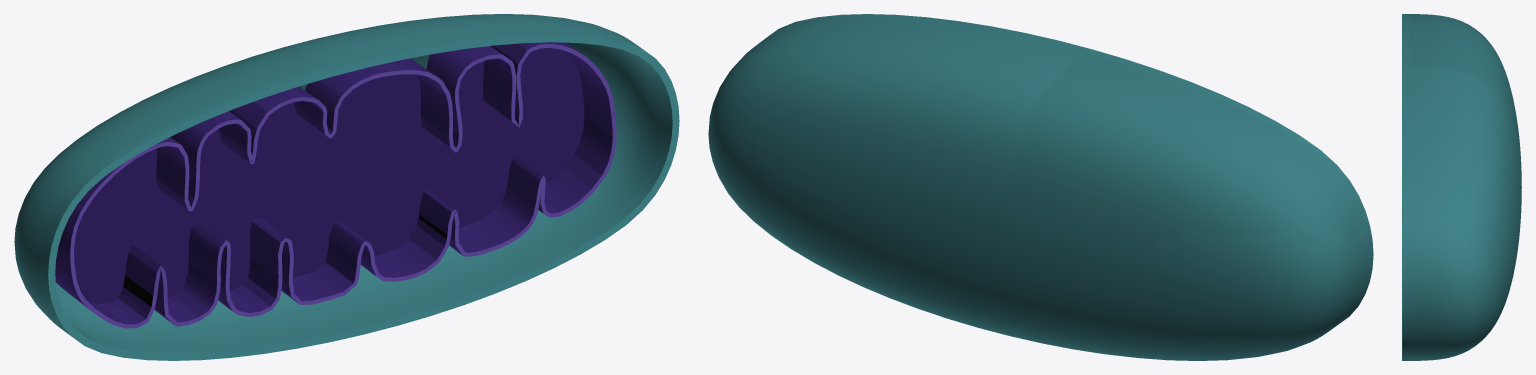
Rendered from mitochondrion.glb.
3 renders of one model, left to right at view 1: azimuth 30°, elevation 25°; view 2: azimuth 150°, elevation 25°; view 3: azimuth 270°, elevation 25°, orthographic. The views are drawn at different scales.
Parts seen in each view (by area): view 1: Mitochondria_FBX2013_VertexPaint; view 2: Mitochondria_FBX2013_VertexPaint; view 3: Mitochondria_FBX2013_VertexPaint.
Boxes of the visible parts, x1,y1,x2,y2 form: Mitochondria_FBX2013_VertexPaint: [14, 14, 679, 360]; Mitochondria_FBX2013_VertexPaint: [708, 14, 1373, 360]; Mitochondria_FBX2013_VertexPaint: [1402, 14, 1521, 360].
Bounding box in the file's own units: 3.06 × 1.27 × 0.6352.
